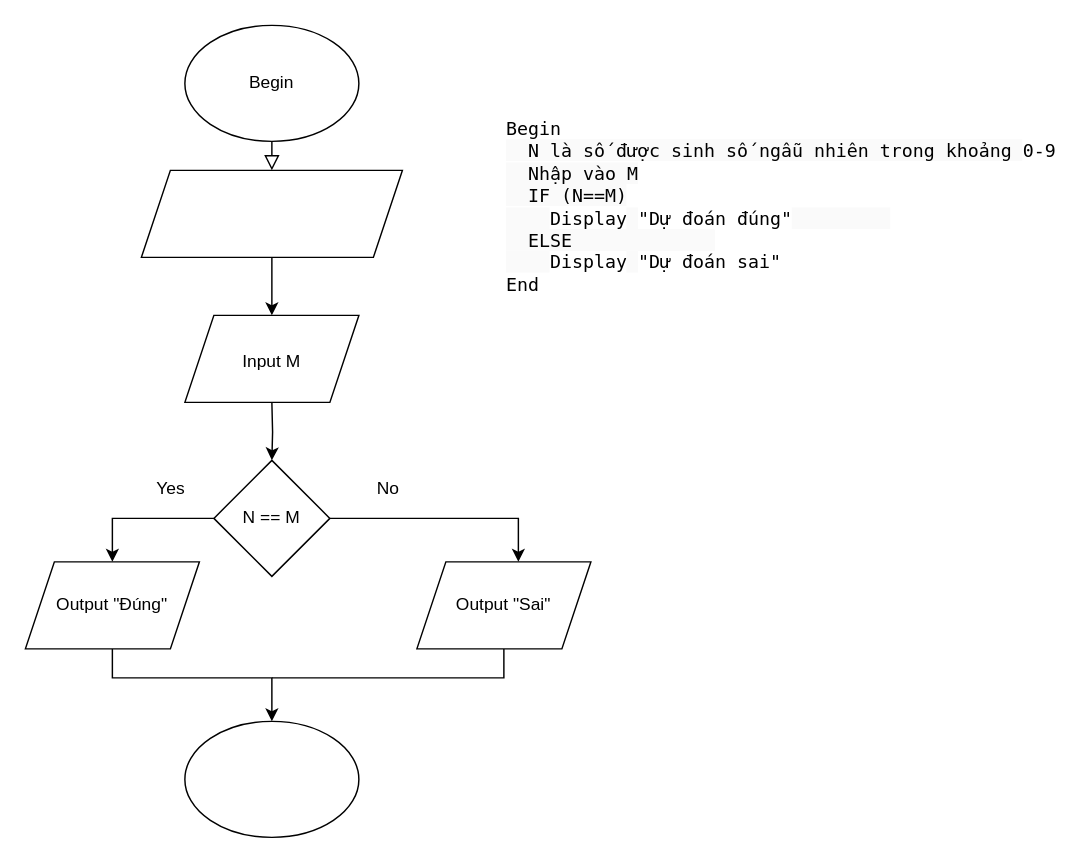
Some shapes in this 1082 by 863 pixel diagram are drawn without their labels. Here are the shapes that lost their labels. From the top down, the centre of each, then its label:
At (x=271, y=213): "Input N ngẫu nhiên từ 0-9".
At (x=271, y=778): "End".
